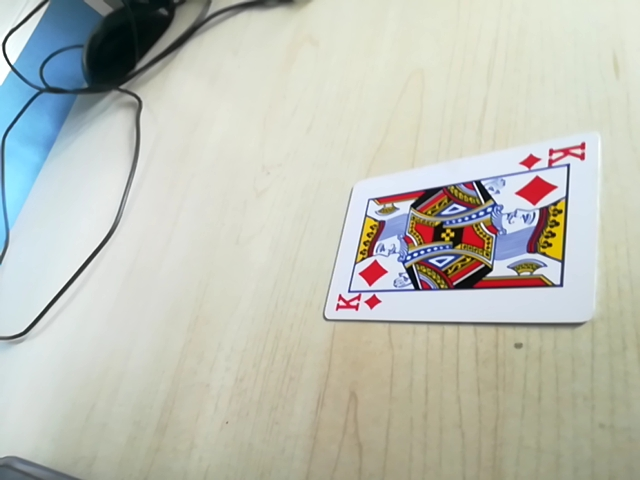fk k: (519, 140, 586, 172), (330, 289, 386, 318)
